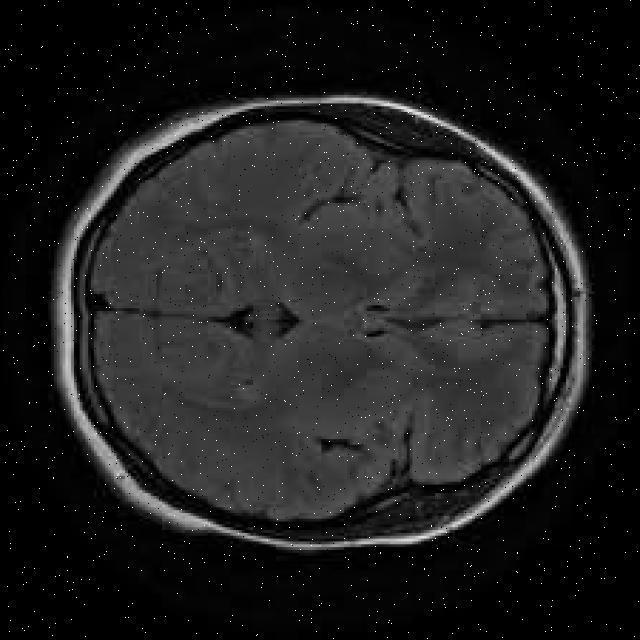No_Tumor: (55, 95, 588, 551)
